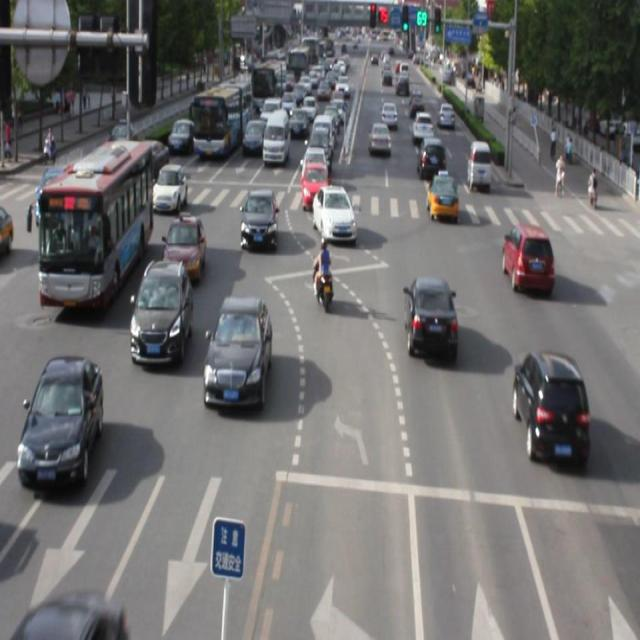car: (16, 354, 102, 485), (512, 347, 586, 459), (203, 295, 268, 407), (129, 261, 192, 365), (14, 584, 126, 640), (405, 272, 457, 362), (502, 223, 554, 294), (164, 216, 205, 282), (312, 183, 356, 244), (240, 190, 276, 252), (426, 171, 459, 225)
van: (39, 140, 154, 303)
